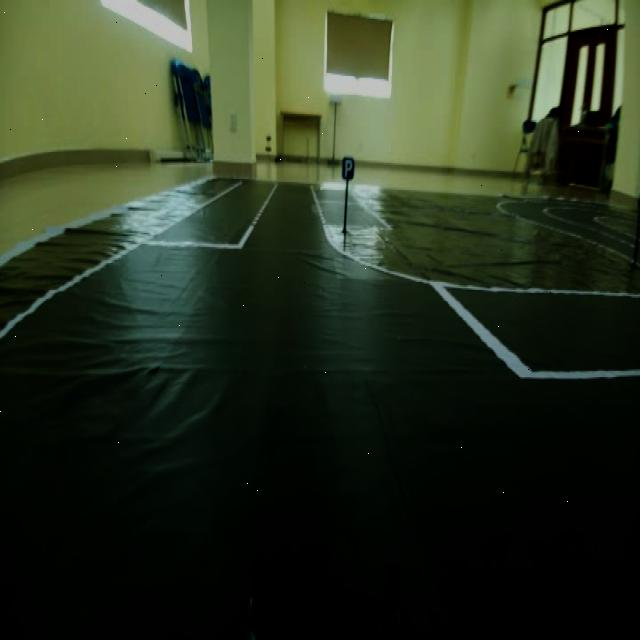parking: (336, 155, 360, 184)
